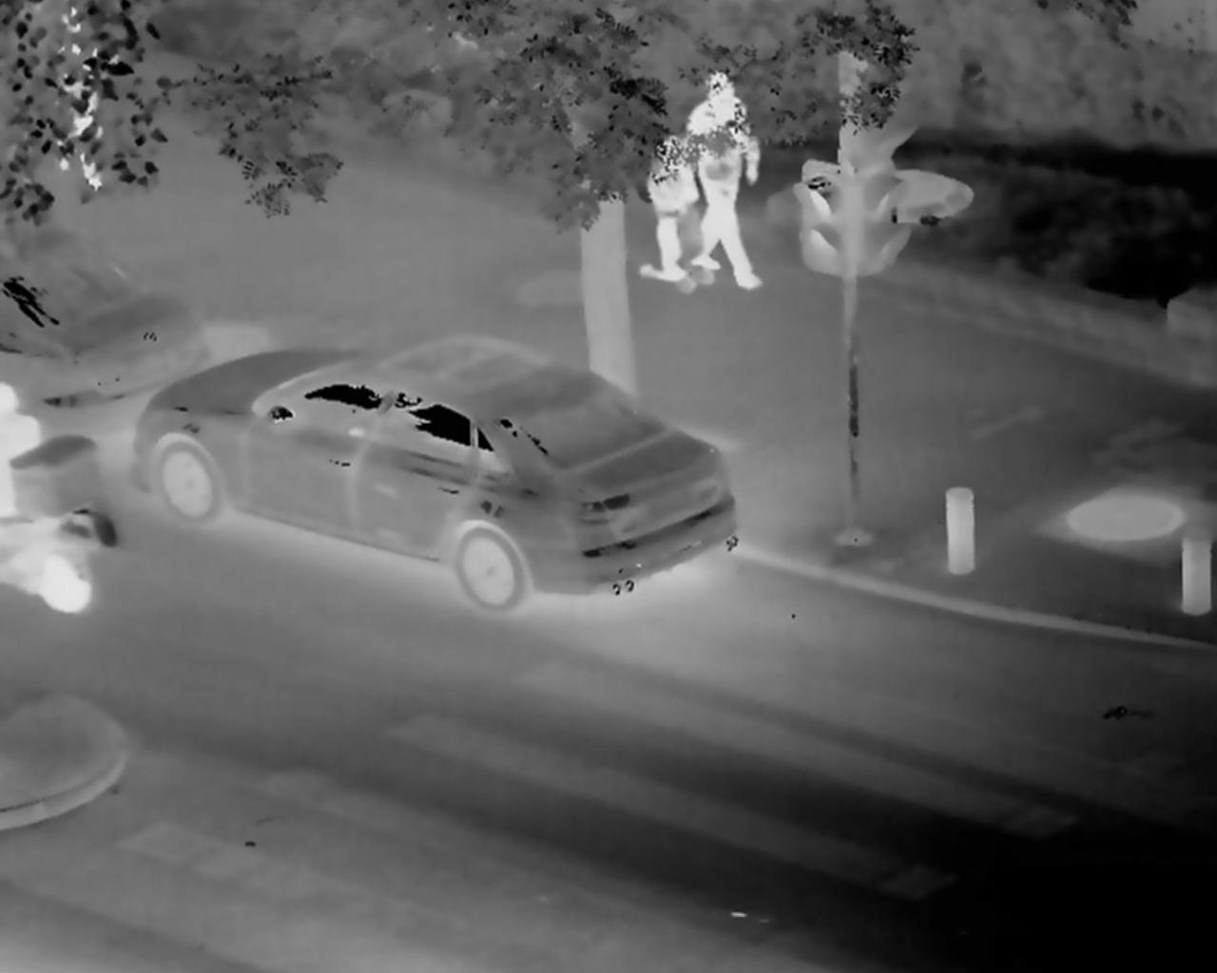person: (679, 75, 778, 296), (635, 133, 717, 293)
